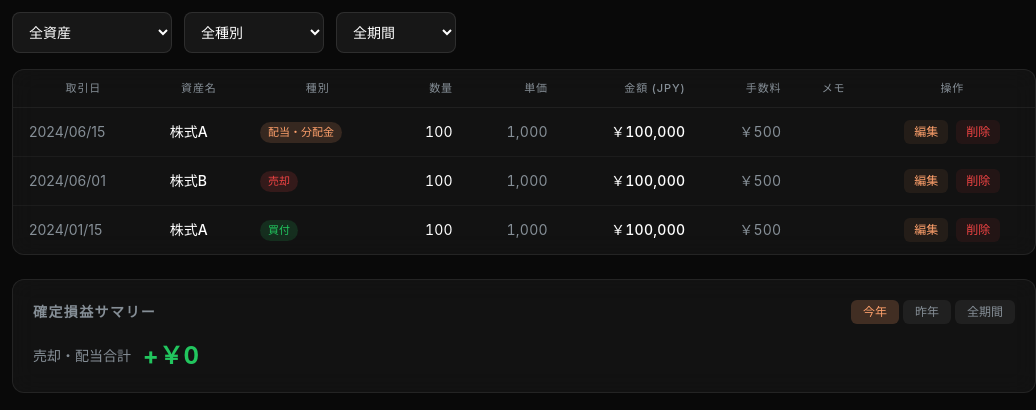
Test: TransactionList - filtering › shows no results message when filter matches nothing
The image size is (1036, 410).
Select "出金" in the dropdown named "取引種別フィルター": (254, 32) [184, 12, 324, 53]
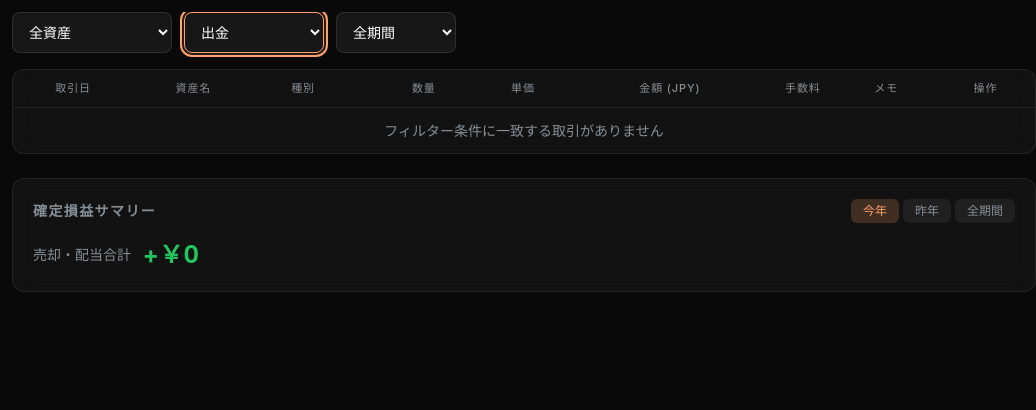
Result: the text "フィルター条件に一致する取引がありません" is shown at [13, 107, 1035, 152]
